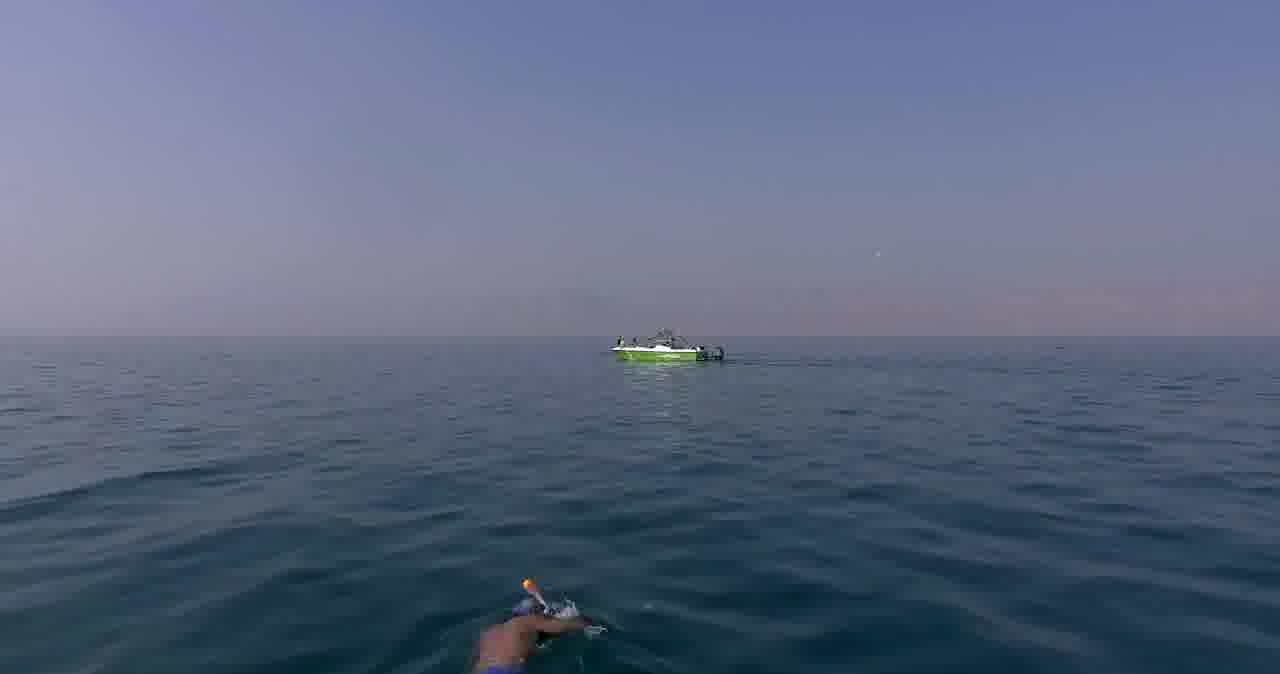swimmer: (469, 586, 584, 674)
